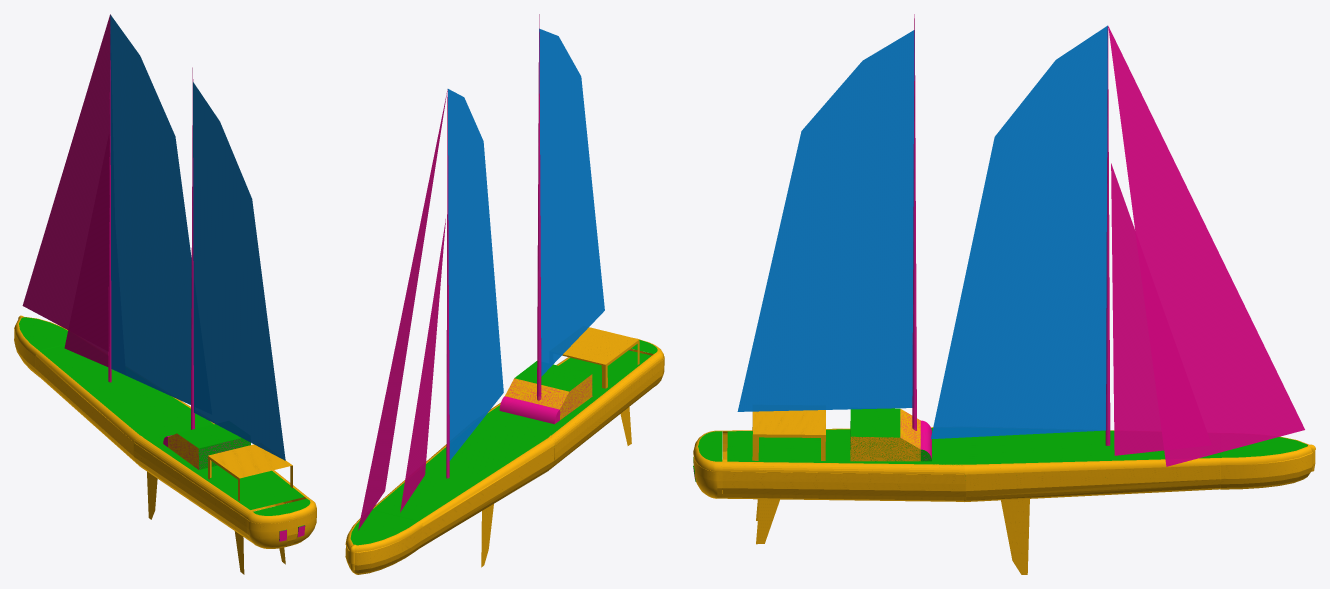
File: TARA_FOC_BABORD.dae
The picture shows the model from 3 angles, left to right: view 1: azimuth 30°, elevation 25°; view 2: azimuth 150°, elevation 25°; view 3: azimuth 270°, elevation 25°; orthographic projection. The views are drawn at different scales.
Visible parts, largest first — view 1: SketchUp (×14); view 2: SketchUp (×14); view 3: SketchUp (×12).
Part boxes in pixels (x1,y1,x2,y2): SketchUp (×14): (14, 14, 316, 548); SketchUp (×14): (345, 14, 664, 574); SketchUp (×12): (693, 14, 1315, 574).
Size of the model in its own units: 27209 by 162265 by 160365.
